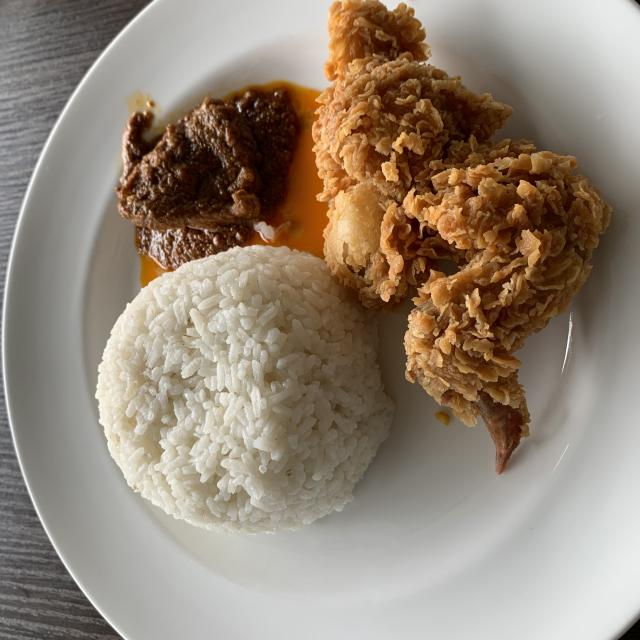Wet Waste: (320, 5, 600, 472), (94, 244, 394, 532), (115, 88, 305, 264)
